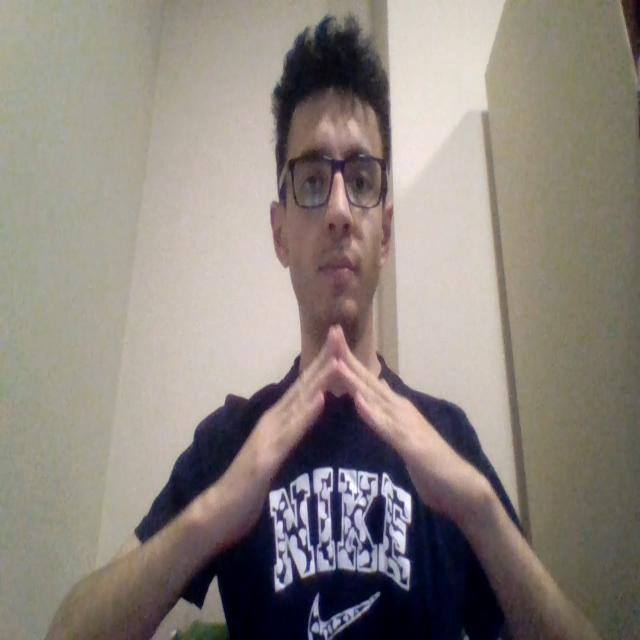house: (215, 326, 480, 528)
